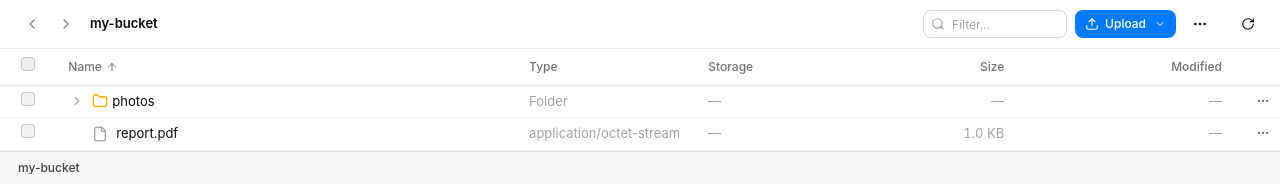
Test: ObjectBrowser upload split button › opens the upload menu when the Upload button is clicked
Click the button with test id "upload-button" at (1126, 24), box x1=1075 y1=10 x2=1176 y2=38
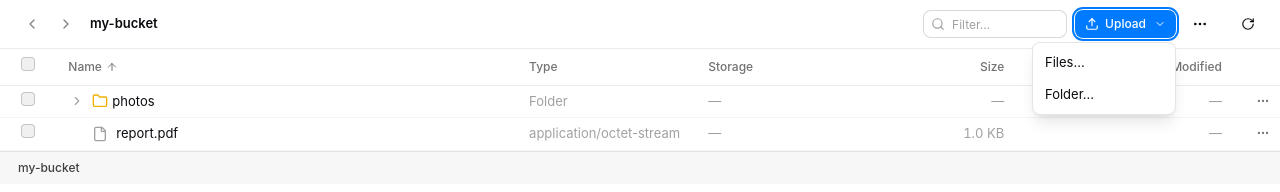
Expected: the menu with test id "upload-menu" is shown, x1=1032 y1=42 x2=1176 y2=115
Expected: the menu item with test id "upload-files" is shown, x1=1033 y1=47 x2=1175 y2=78
Expected: the menu item with test id "upload-folder" is shown, x1=1033 y1=78 x2=1175 y2=110
